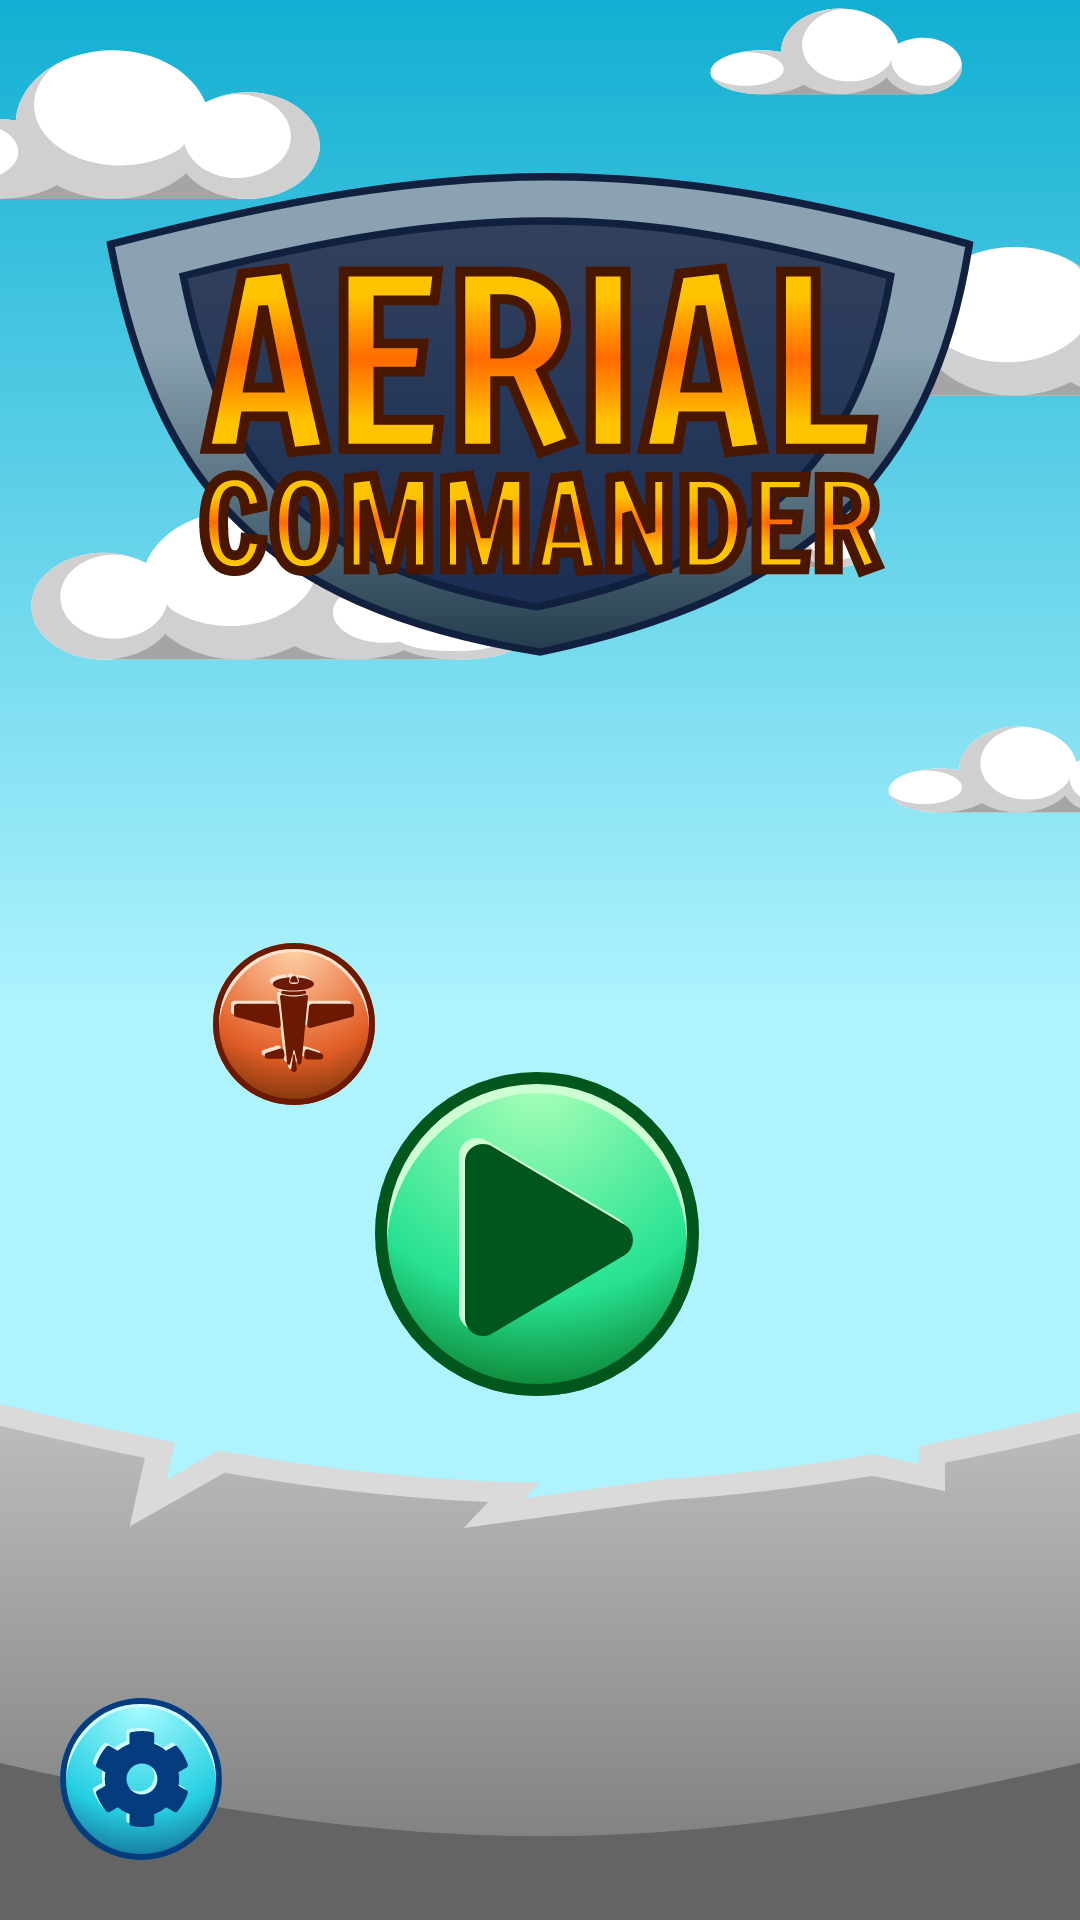

Point at icon controls on the screen. Image size 1080 x 1920, points as (x,y).
settings: (141,1779)
